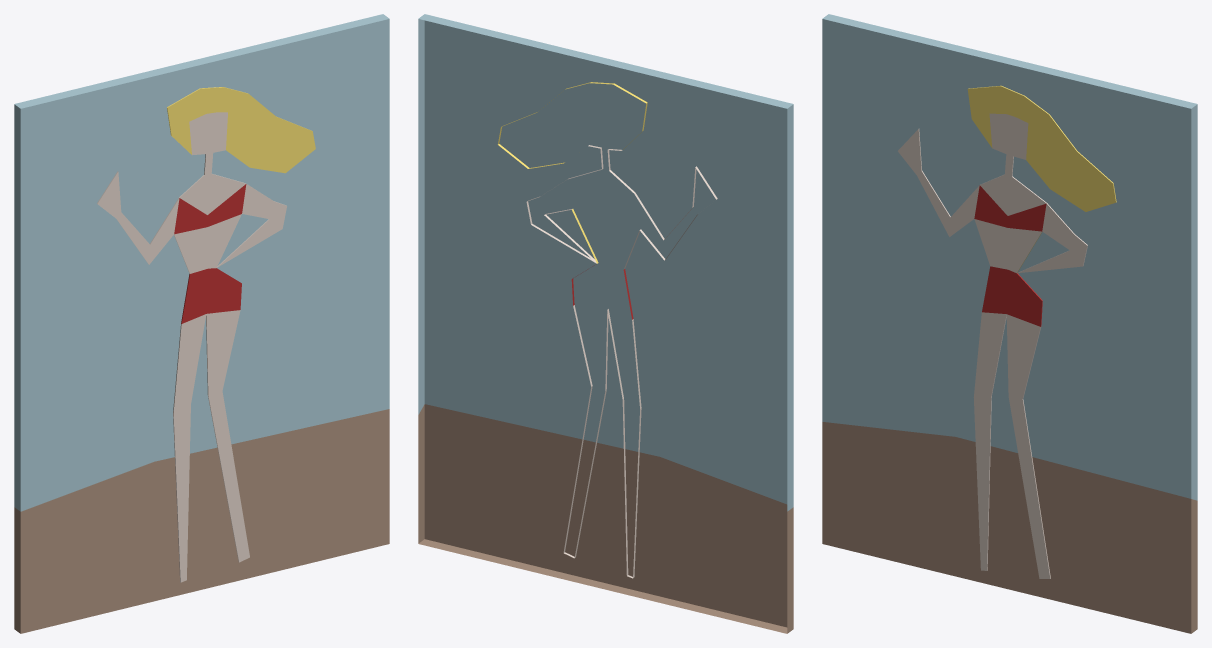
File: Poster_3.fbx
3 renders of one model, left to right at view 1: azimuth 30°, elevation 25°; view 2: azimuth 150°, elevation 25°; view 3: azimuth 330°, elevation 25°, orthographic.
Parts seen in each view (by area): view 1: Poster_3; view 2: Poster_3; view 3: Poster_3.
Part boxes in pixels (x1,y1,x2,y2): Poster_3: [14, 14, 389, 633]; Poster_3: [418, 14, 793, 633]; Poster_3: [822, 14, 1197, 633].
Size of the model in its own units: 67.87 by 2.29 by 92.27.
